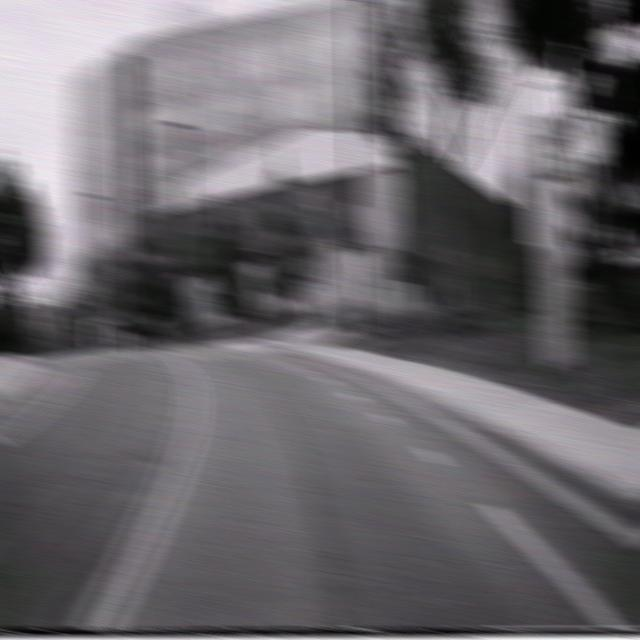stop: (320, 238, 346, 272)
